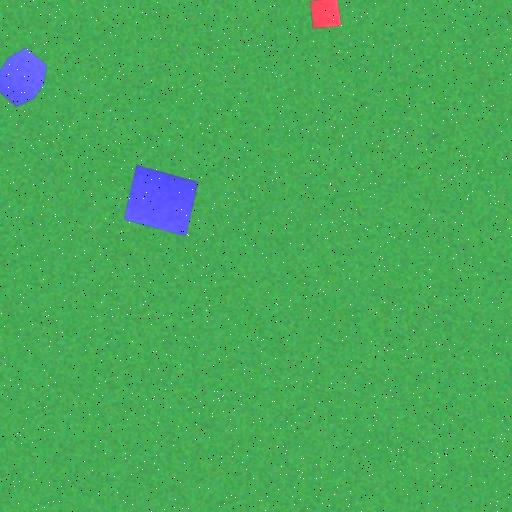BLUE_SQUARE: (123, 164, 199, 237)
RED_SQUARE: (310, 0, 342, 30)
